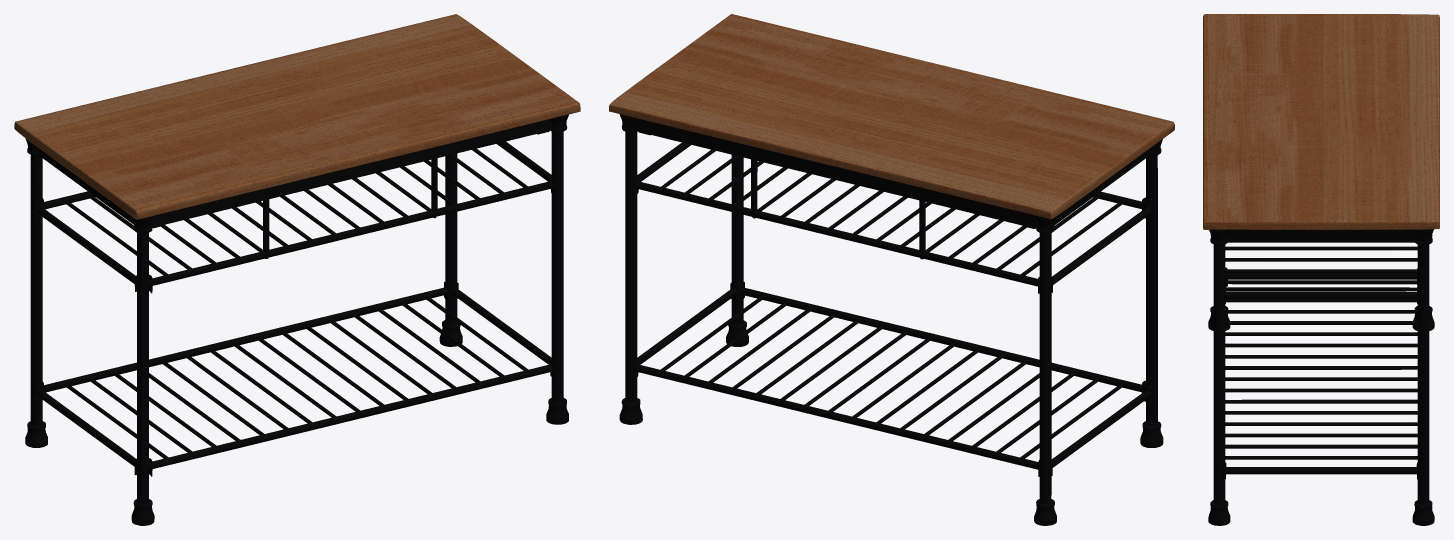
Rendered from TRNT3442.obj.
3 views of the same model, side by side, from view 1: azimuth 30°, elevation 25°; view 2: azimuth 150°, elevation 25°; view 3: azimuth 270°, elevation 25° (orthographic). The views are drawn at different scales.
Visible parts, largest first — view 1: not_clear_obj_2_v6, not_clear_obj_0_v6; view 2: not_clear_obj_2_v6, not_clear_obj_0_v6; view 3: not_clear_obj_2_v6, not_clear_obj_0_v6.
Boxes of the visible parts, left/top/right/bottom form: not_clear_obj_2_v6: left=14, top=14, right=580, bottom=219; not_clear_obj_0_v6: left=25, top=114, right=568, bottom=525; not_clear_obj_2_v6: left=609, top=14, right=1174, bottom=219; not_clear_obj_0_v6: left=619, top=114, right=1163, bottom=525; not_clear_obj_2_v6: left=1203, top=14, right=1439, bottom=229; not_clear_obj_0_v6: left=1208, top=229, right=1434, bottom=525.
Size of what is drawn, in the model's own units: 132 by 91.41 by 63.5.
